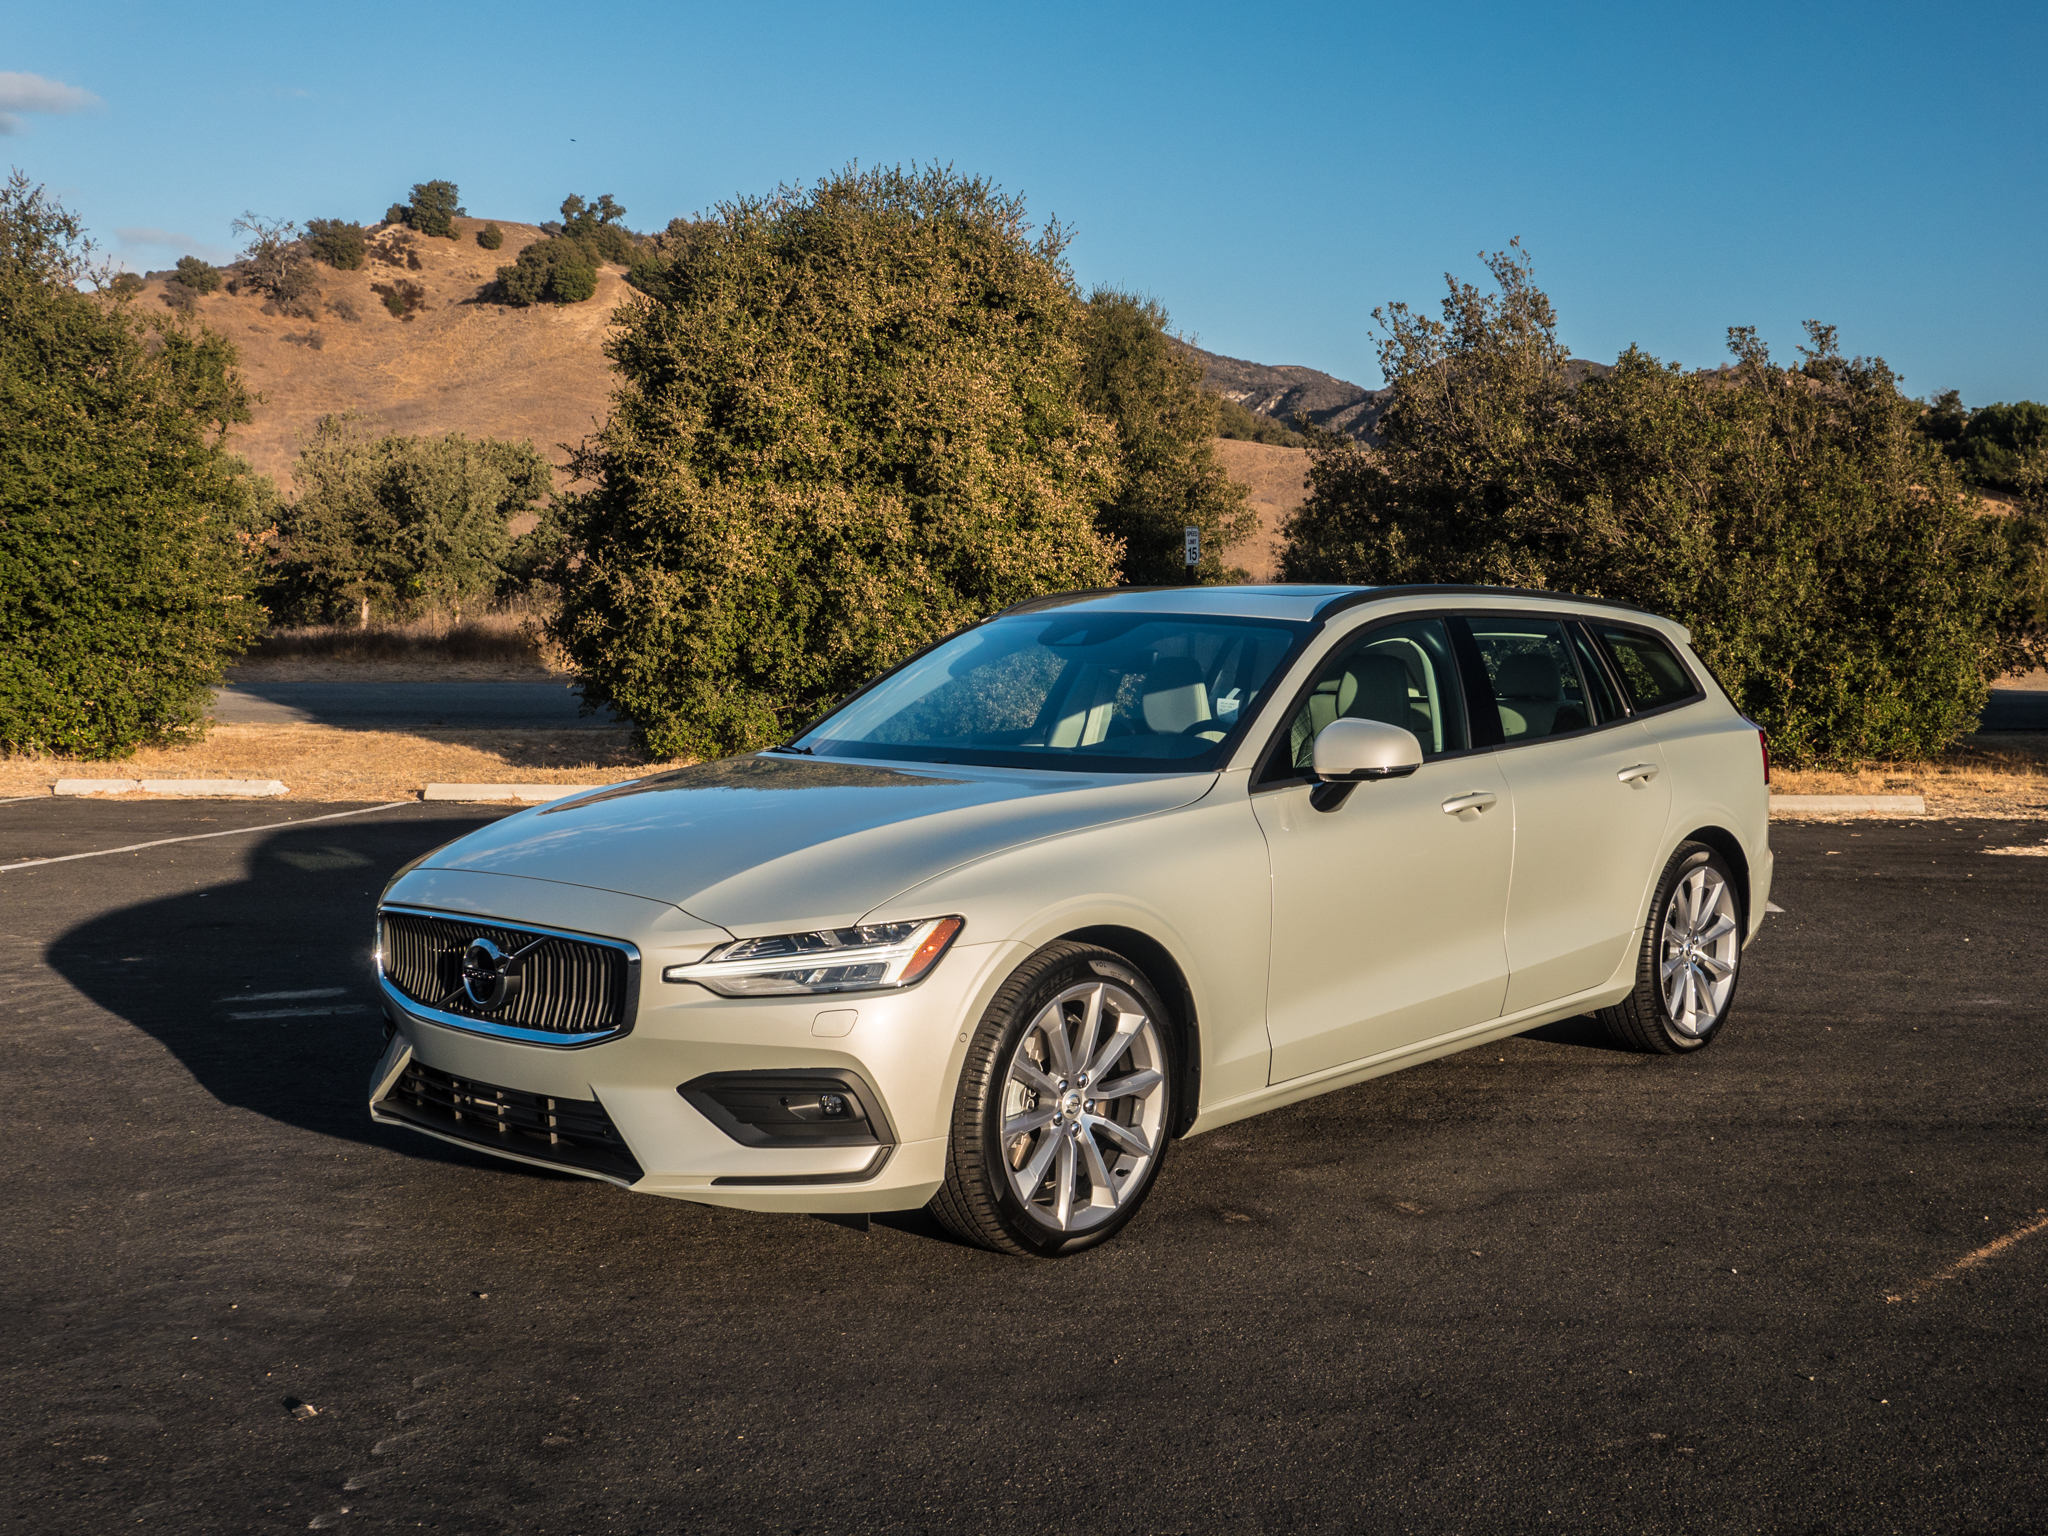car: (358, 582, 1775, 1263)
